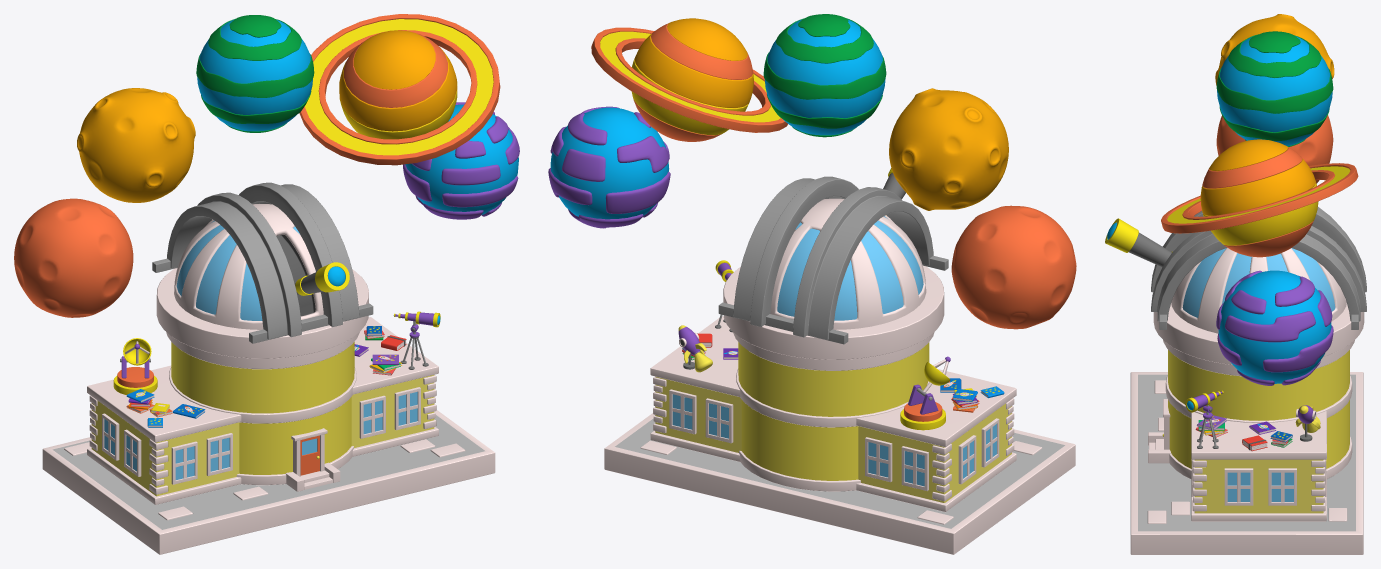
Rendered from Public_Island_17.glb.
3 renders of one model, left to right at view 1: azimuth 30°, elevation 25°; view 2: azimuth 150°, elevation 25°; view 3: azimuth 270°, elevation 25°, orthographic. The views are drawn at different scales.
Parts seen in each view (by area): view 1: Public_17_Observatory_1, Public_17_Planet_1, Public_17_Base_1, Public_17_Meteor_1, Public_17_Planet_3, Public_17_Meteor_2, Public_17_Planet_2, Public_17_Satellite_Receiver_1, Public_17_Telescope_1; view 2: Public_17_Observatory_1, Public_17_Base_1, Public_17_Planet_1, Public_17_Meteor_1, Public_17_Planet_3, Public_17_Planet_2, Public_17_Meteor_2, Public_17_Satellite_Receiver_1, Public_17_Statuette_Rocket_1; view 3: Public_17_Observatory_1, Public_17_Base_1, Public_17_Planet_1, Public_17_Planet_2, Public_17_Planet_3, Public_17_Meteor_2, Public_17_Meteor_1, Public_17_Telescope_1, Public_17_Statuette_Rocket_1, Public_17_Books_3.
Part boxes in pixels (left/top/right/bottom): Public_17_Observatory_1: left=87, top=182, right=438, bottom=504; Public_17_Planet_1: left=299, top=14, right=500, bottom=165; Public_17_Base_1: left=42, top=410, right=495, bottom=554; Public_17_Meteor_1: left=14, top=198, right=133, bottom=317; Public_17_Planet_3: left=196, top=15, right=314, bottom=132; Public_17_Meteor_2: left=77, top=88, right=195, bottom=202; Public_17_Planet_2: left=403, top=102, right=519, bottom=219; Public_17_Satellite_Receiver_1: left=113, top=338, right=157, bottom=394; Public_17_Telescope_1: left=393, top=311, right=440, bottom=369; Public_17_Observatory_1: left=650, top=168, right=1016, bottom=512; Public_17_Base_1: left=604, top=413, right=1075, bottom=554; Public_17_Planet_1: left=591, top=18, right=787, bottom=141; Public_17_Meteor_1: left=951, top=205, right=1076, bottom=329; Public_17_Planet_3: left=763, top=14, right=886, bottom=137; Public_17_Planet_2: left=548, top=106, right=670, bottom=228; Public_17_Meteor_2: left=889, top=88, right=1008, bottom=210; Public_17_Satellite_Receiver_1: left=900, top=356, right=950, bottom=430; Public_17_Statuette_Rocket_1: left=678, top=325, right=712, bottom=372; Public_17_Observatory_1: left=1105, top=207, right=1366, bottom=521; Public_17_Base_1: left=1130, top=372, right=1363, bottom=554; Public_17_Planet_1: left=1161, top=139, right=1358, bottom=257; Public_17_Planet_2: left=1216, top=270, right=1333, bottom=385; Public_17_Planet_3: left=1216, top=31, right=1333, bottom=146; Public_17_Meteor_2: left=1215, top=14, right=1334, bottom=85; Public_17_Meteor_1: left=1216, top=115, right=1333, bottom=183; Public_17_Telescope_1: left=1185, top=390, right=1223, bottom=448; Public_17_Statuette_Rocket_1: left=1295, top=405, right=1320, bottom=441; Public_17_Books_3: left=1195, top=415, right=1227, bottom=437.
Size of the model in its own units: 30.69 by 26.39 by 14.34.
Materials: 18 (18 with a texture image).
